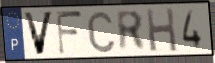4: (181, 9, 204, 50)
C: (85, 9, 118, 55)
F: (54, 10, 84, 57)
H: (145, 6, 179, 54)
R: (115, 9, 148, 53)
V: (22, 10, 56, 57)
